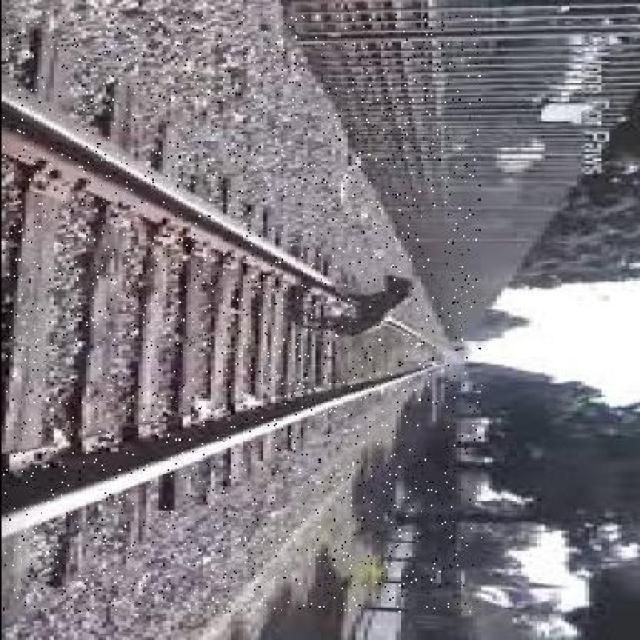rail: (1, 12, 480, 613)
